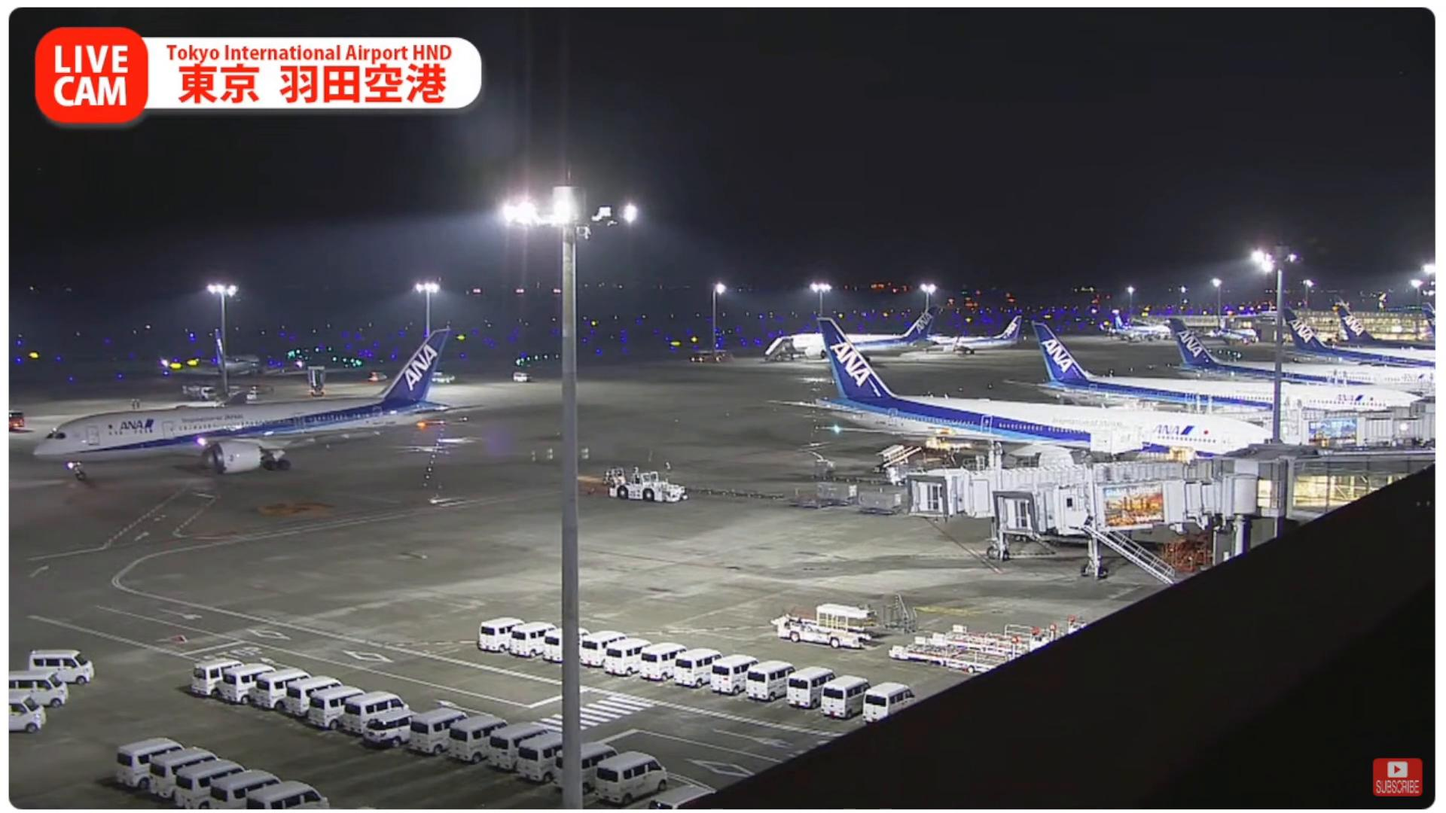APS: (611, 471, 685, 503)
Aerobridge: (905, 456, 1224, 518), (989, 475, 1256, 533)
Airplane: (34, 328, 453, 479)
JCPL: (912, 624, 1048, 657), (889, 640, 1014, 673), (747, 584, 750, 584)
Skyloader: (771, 601, 875, 650)
Window: (1290, 455, 1437, 521)
